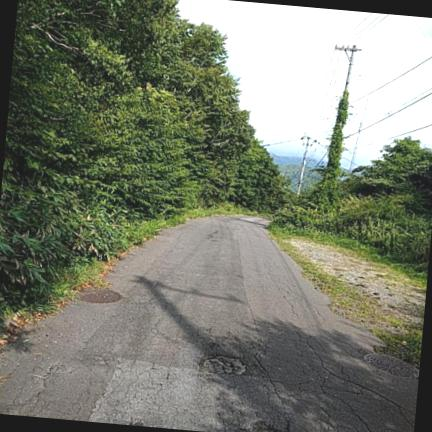Road: (0, 217, 417, 431)
